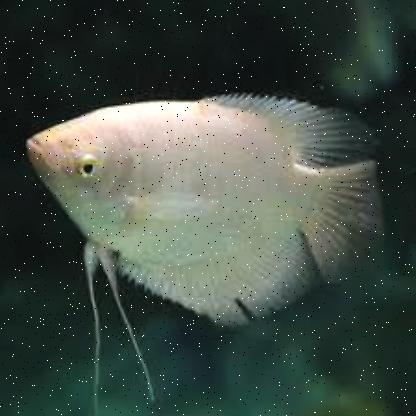gurame: (24, 95, 378, 328)
